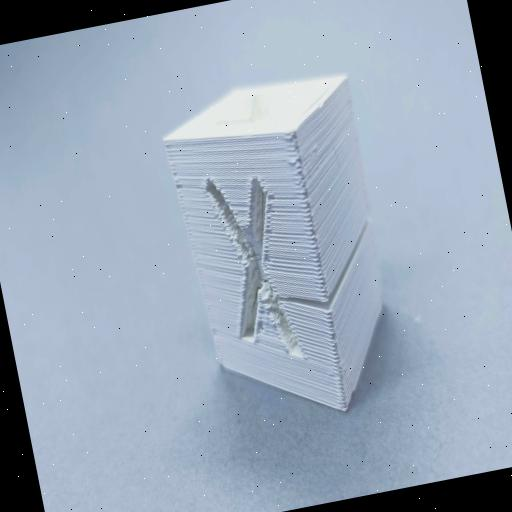cracks: (271, 260, 371, 338), (156, 173, 200, 214)
